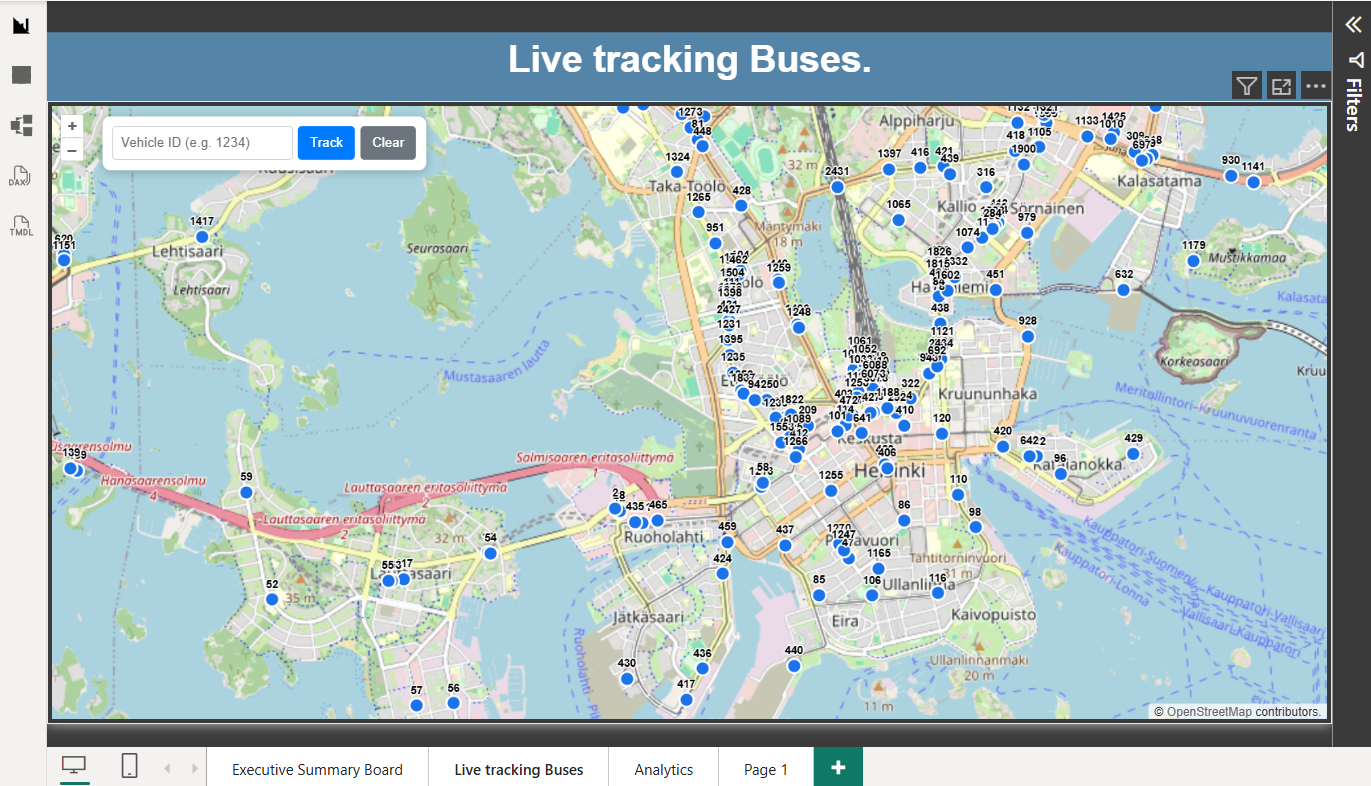

What the dashboard file says about the page in this screenshot:
{"tool":"powerbi","page":{"name":"Live tracking Buses","canvas":[1280,720],"ordinal":1},"visuals":[{"type":"htmlContent443BE3AD55E043BF878BED274D3A6855","fields":{"content":["v_vehicle_base.Live_Tracker_Frame"]},"box":[0,99,1280.3,609],"z":0},{"type":"htmlContent443BE3AD55E043BF878BED274D3A6855","box":[489.1,708,456.1,12.2],"z":1000},{"type":"textbox","box":[0,30.6,1280.3,68.5],"z":2000}]}

Visuals, with their boxes on the page's 1280x720 design canvas (x1, y1, x2, y2). These are canvas units, not pixel positions in the 1371x786 screenshot, which may show the page scaled, cropped or inside an application window:
htmlContent443BE3AD55E043BF878BED274D3A6855 - v_vehicle_base.Live_Tracker_Frame: 0/99/1280/708
htmlContent443BE3AD55E043BF878BED274D3A6855: 489/708/945/720
textbox: 0/31/1280/99
